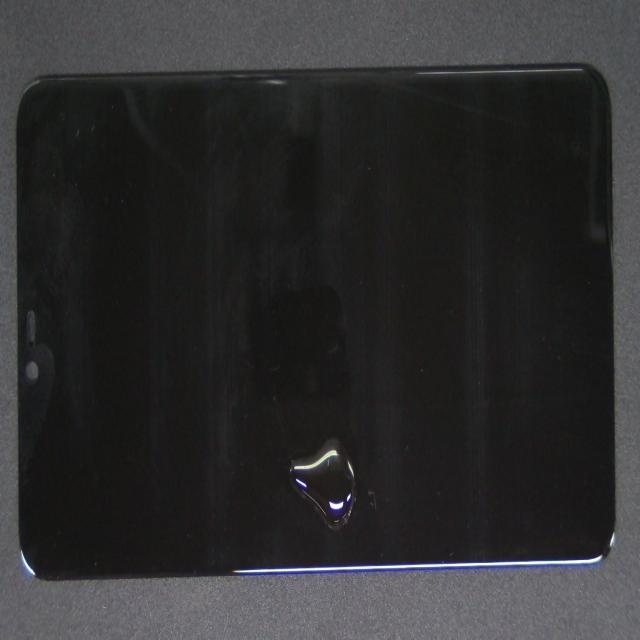oil: (191, 241, 529, 640)
